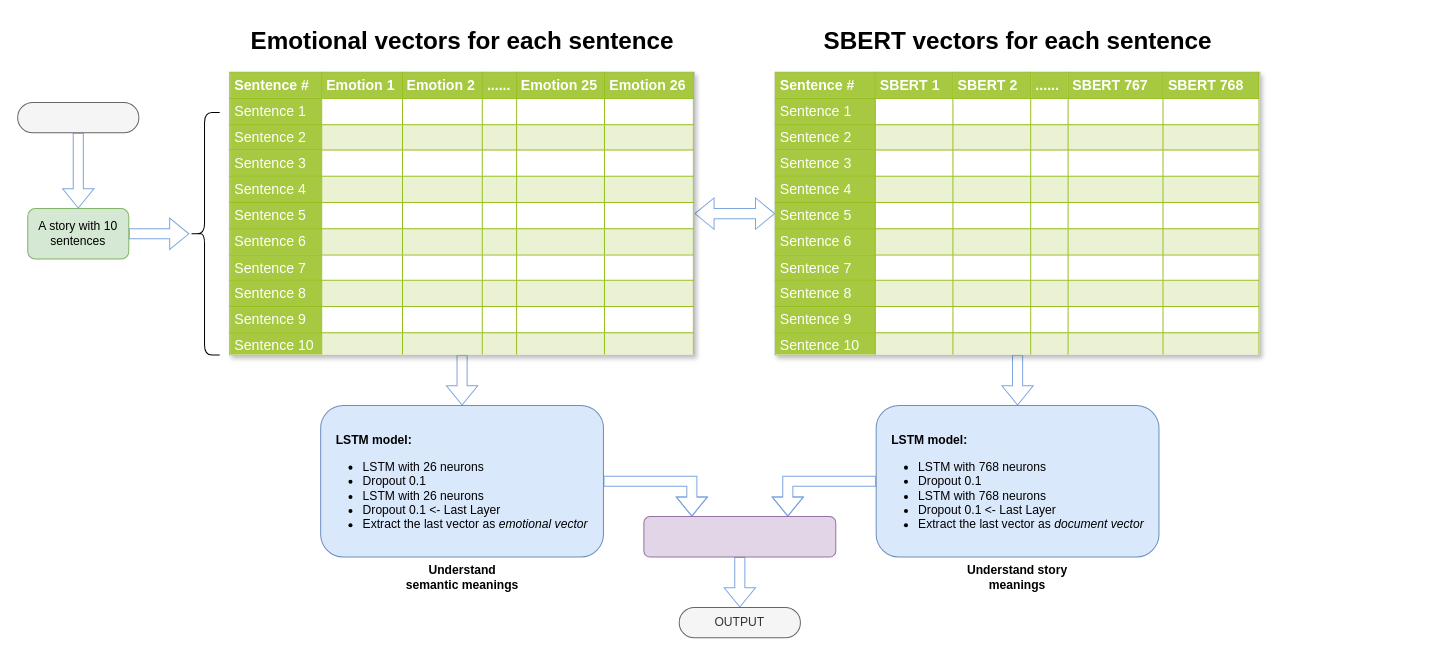
Image size: 1435x655. Some labels were removed from this diagram. Here are the shapes that lost their labels. From the top down, the centre of each, then its label:
At point 78,117: "INPUT".
At point 739,536: "Vector of shape (26+768,)".
